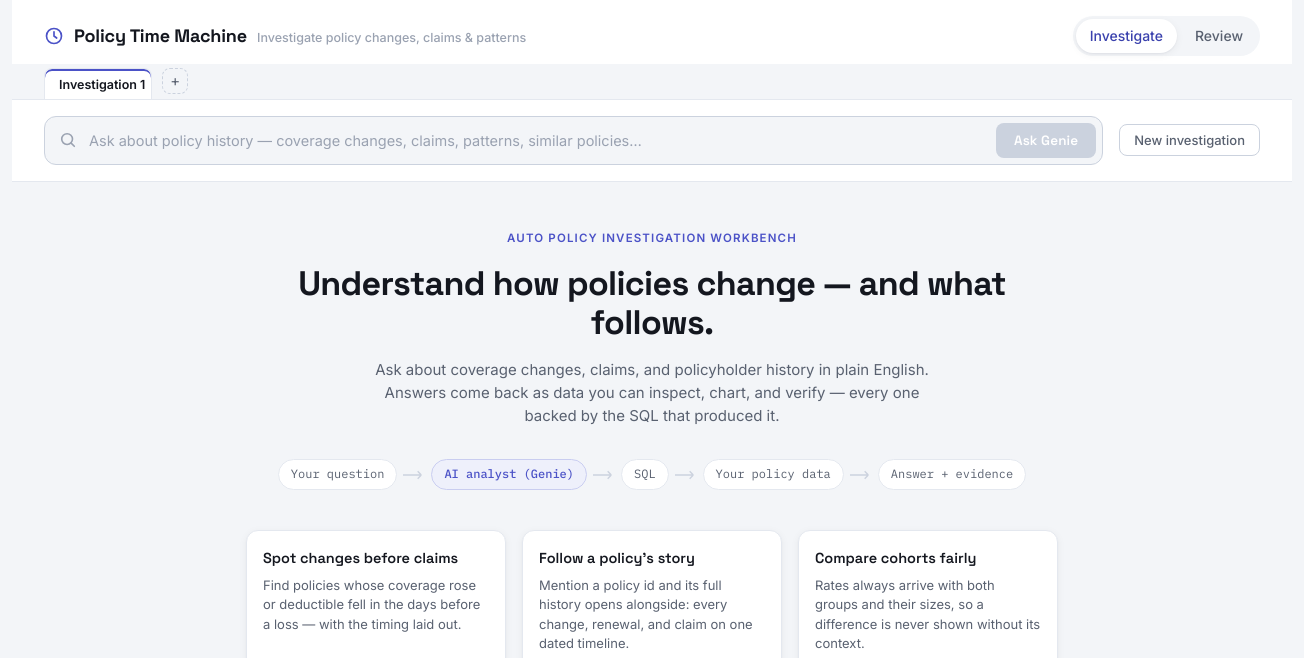
Test: App smoke test (mock mode) › a claim card offers "Prepare a Brief" and switches to the Review view
Replace the text in the field labelled "Ask about policy history" with "What changed on P-18492 in the last year?" at (536, 140), box [85,124,988,157]
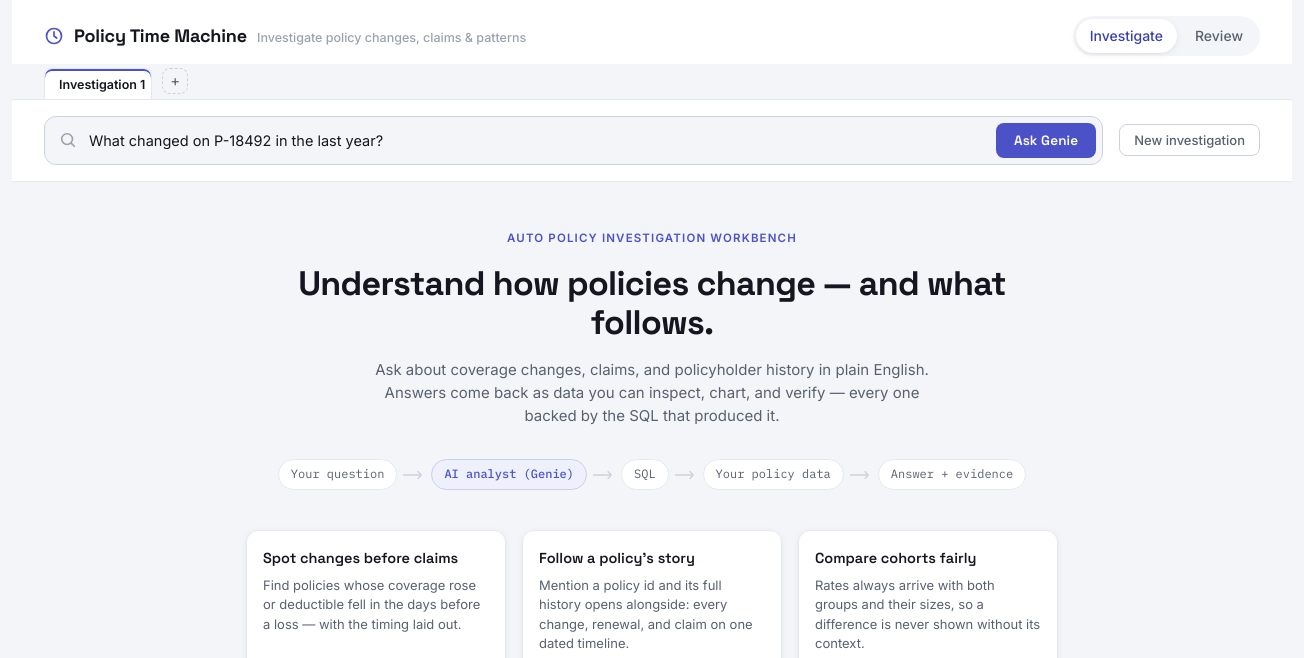
Submit the form named "Ask about policy history", box [44,116,1103,165]
(page scrolled)
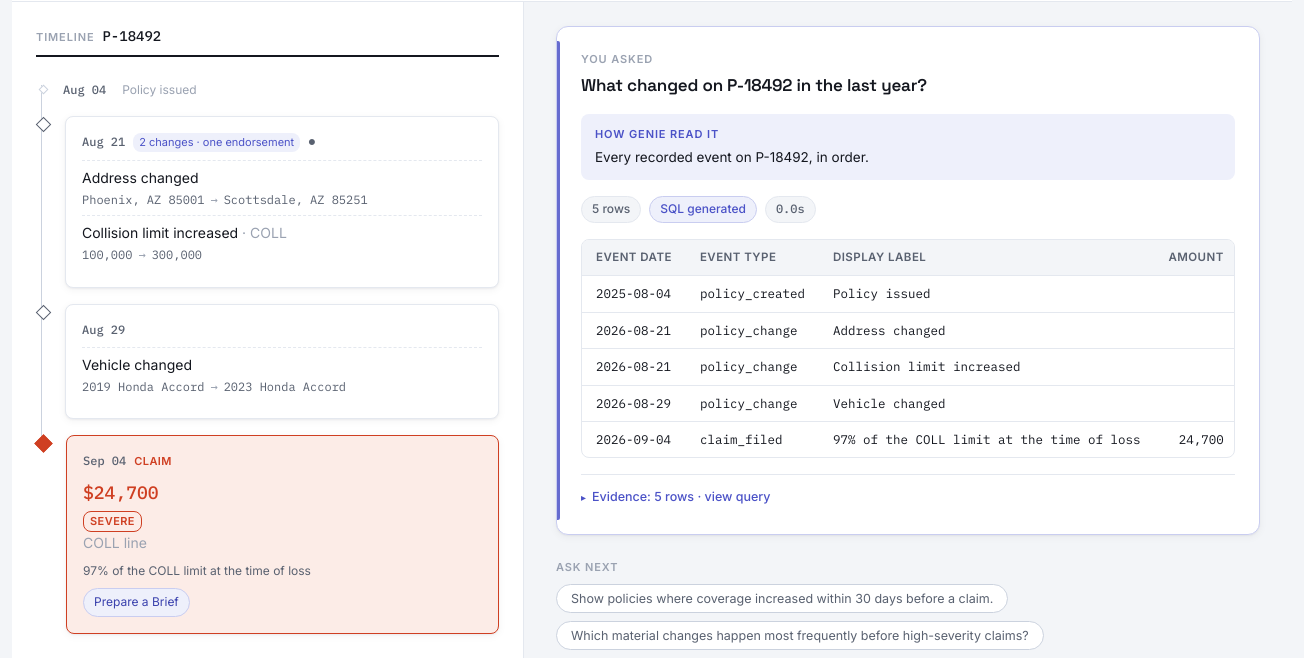
expect the button "Prepare a Brief" is shown: met
Click the button "Prepare a Brief" at (136, 603), box [83,588,190,617]
(page scrolled)
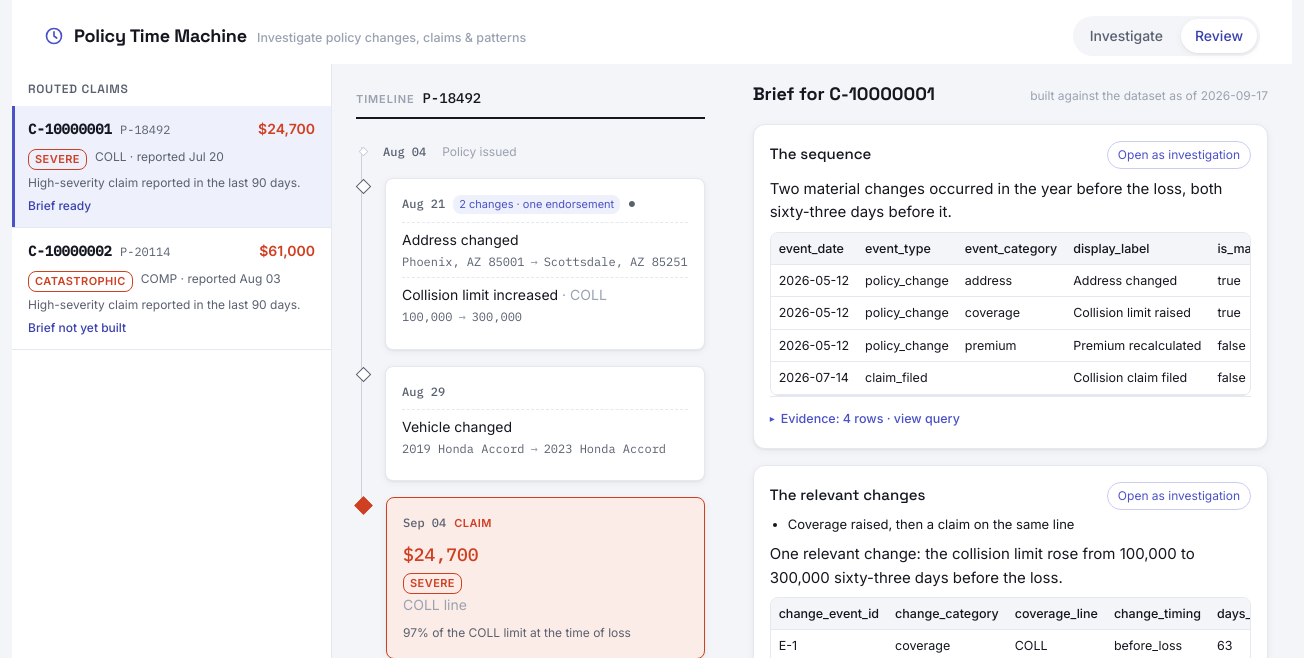
expect the text "Brief for C-10000001" is shown: met, box [753,80,935,108]
